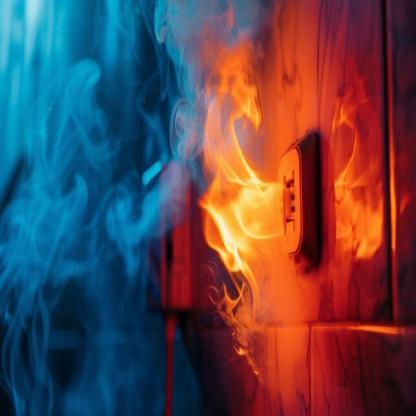fire: (192, 35, 295, 317)
smoke: (0, 0, 282, 393)
